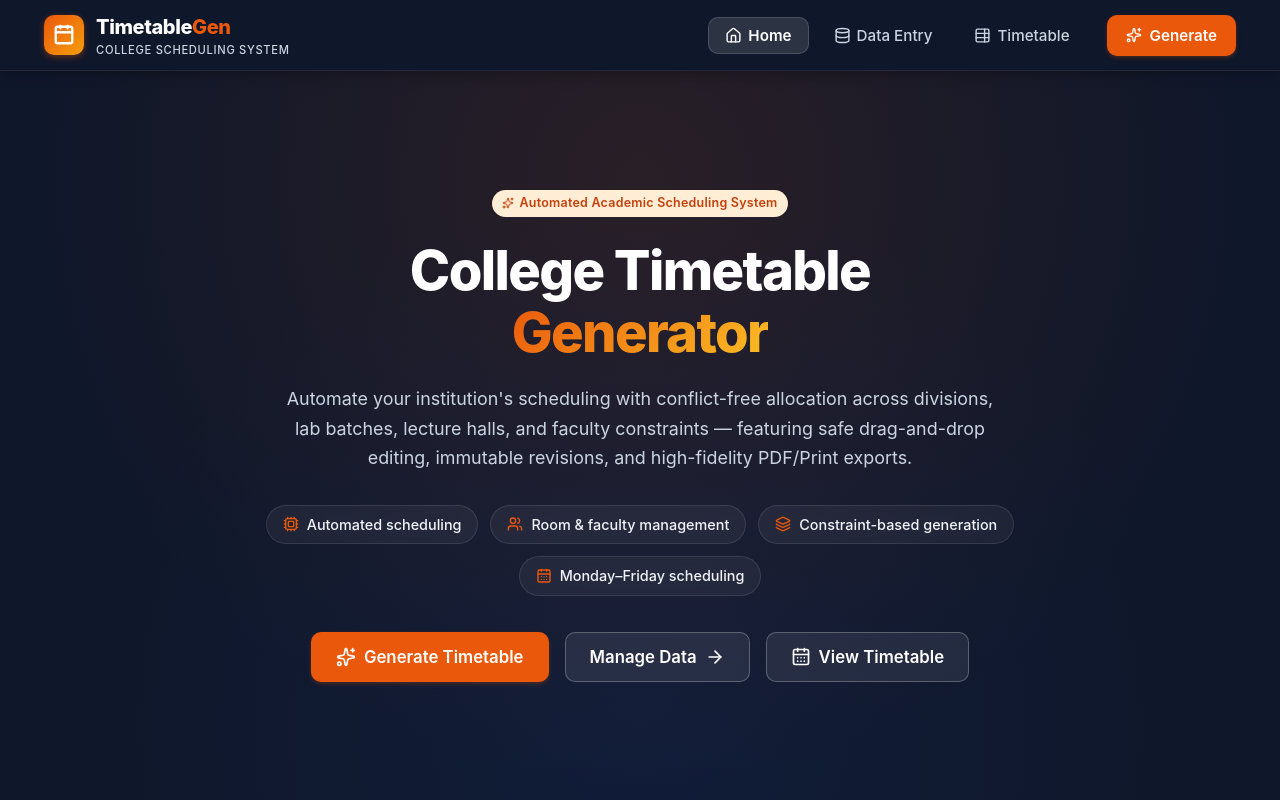
App Phase 2 Foundation & Navigation › 3. Navigates to functional Generate page
Click the prominent Generate button in navbar
Click the button with test id "nav-generate": (1171, 35) x1=1107 y1=14 x2=1236 y2=56
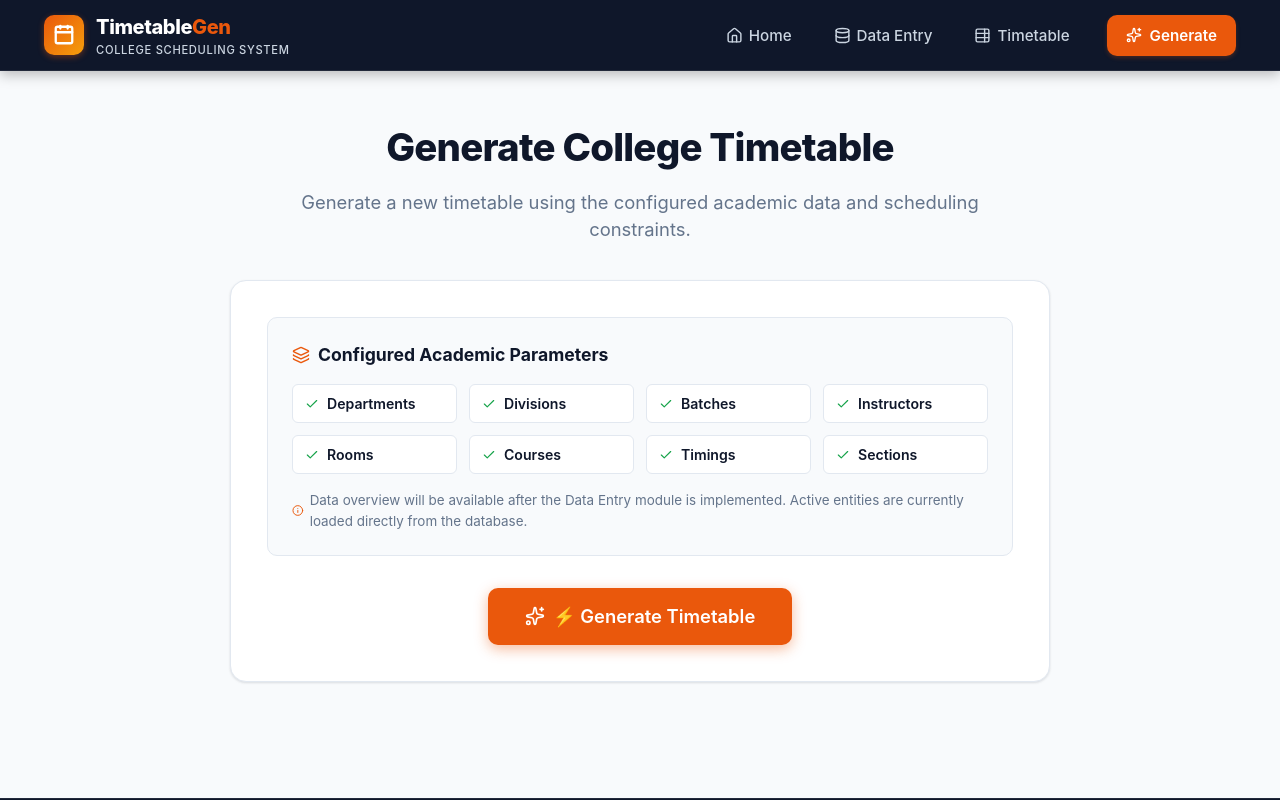
Expected: the heading "Generate College Timetable" is shown, x1=386 y1=124 x2=894 y2=170
Expected: the button with test id "generate-timetable-btn" is shown, x1=488 y1=588 x2=792 y2=645
